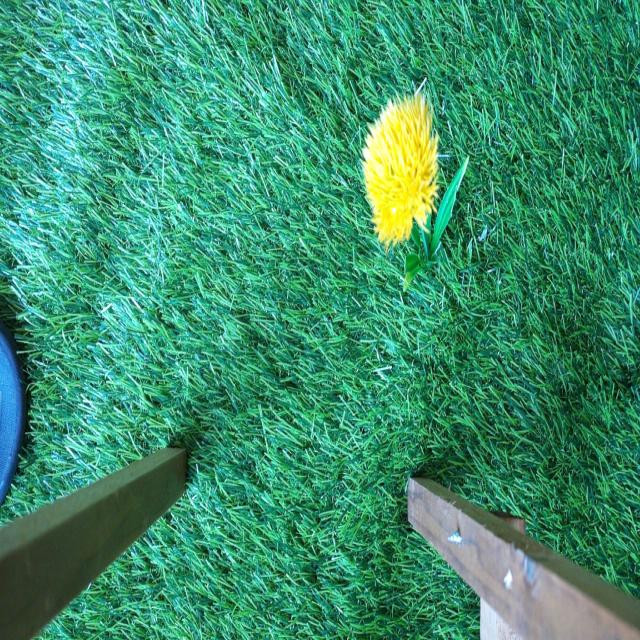base: (404, 156, 469, 284)
flower: (362, 98, 434, 231)
